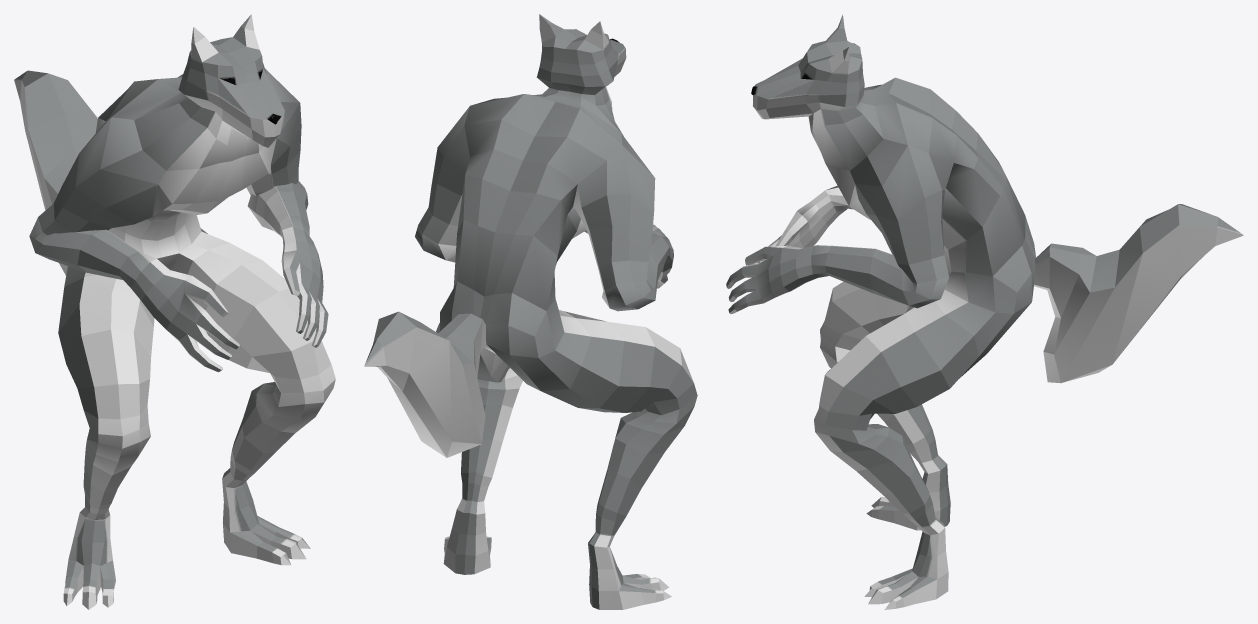
The model's file is WolfIdle_(121).obj.
3 renders of one model, left to right at view 1: azimuth 30°, elevation 25°; view 2: azimuth 150°, elevation 25°; view 3: azimuth 270°, elevation 25°, orthographic. The views are drawn at different scales.
Visible parts, largest first — view 1: Box001; view 2: Box001; view 3: Box001.
Part boxes in pixels (x1=…): Box001: x1=14, y1=14, x2=335, y2=609; Box001: x1=364, y1=14, x2=697, y2=609; Box001: x1=726, y1=14, x2=1243, y2=609.
Size of the model in its own units: 61.98 by 131 by 115.
